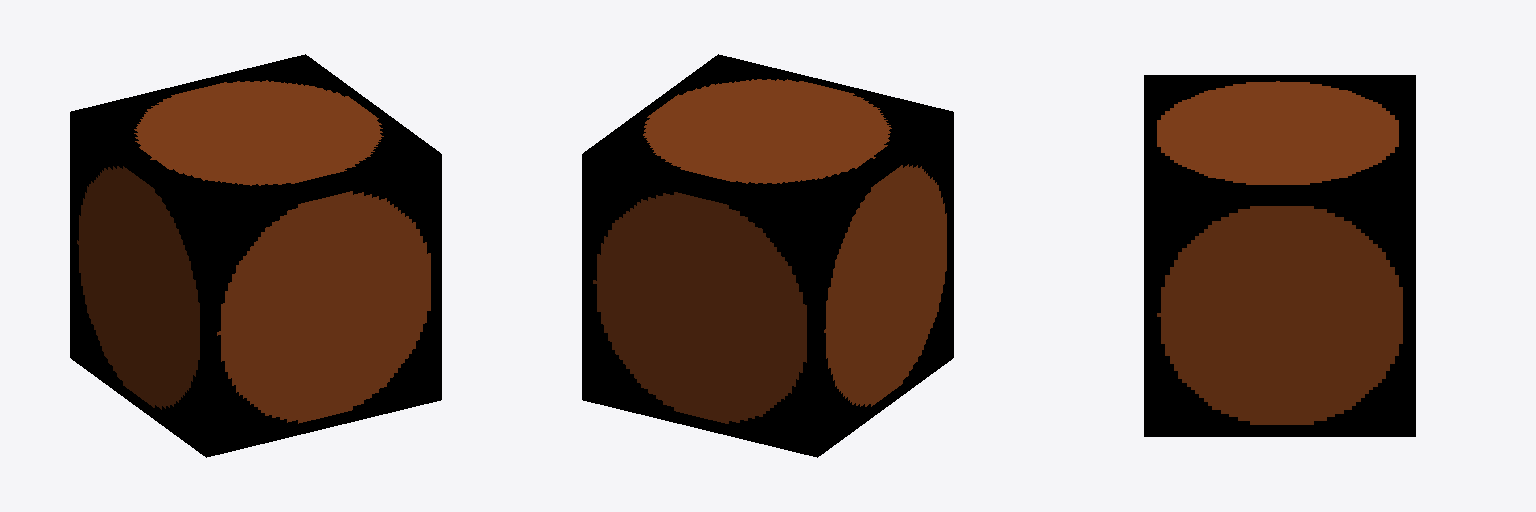
3 renders of one model, left to right at view 1: azimuth 30°, elevation 25°; view 2: azimuth 150°, elevation 25°; view 3: azimuth 270°, elevation 25°, orthographic.
Parts seen in each view (by area): view 1: beef-chopped_cooked; view 2: beef-chopped_cooked; view 3: beef-chopped_cooked.
Part boxes in pixels (bbox=[...]): beef-chopped_cooked: bbox=[70, 54, 441, 457]; beef-chopped_cooked: bbox=[582, 54, 953, 457]; beef-chopped_cooked: bbox=[1144, 75, 1415, 436].
Size of the model in its own units: 1 by 1 by 1.
Materials: 1 (1 with a texture image).